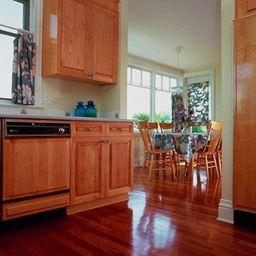Armario: (233, 3, 255, 222)
Electrodomestico: (6, 118, 71, 216)
